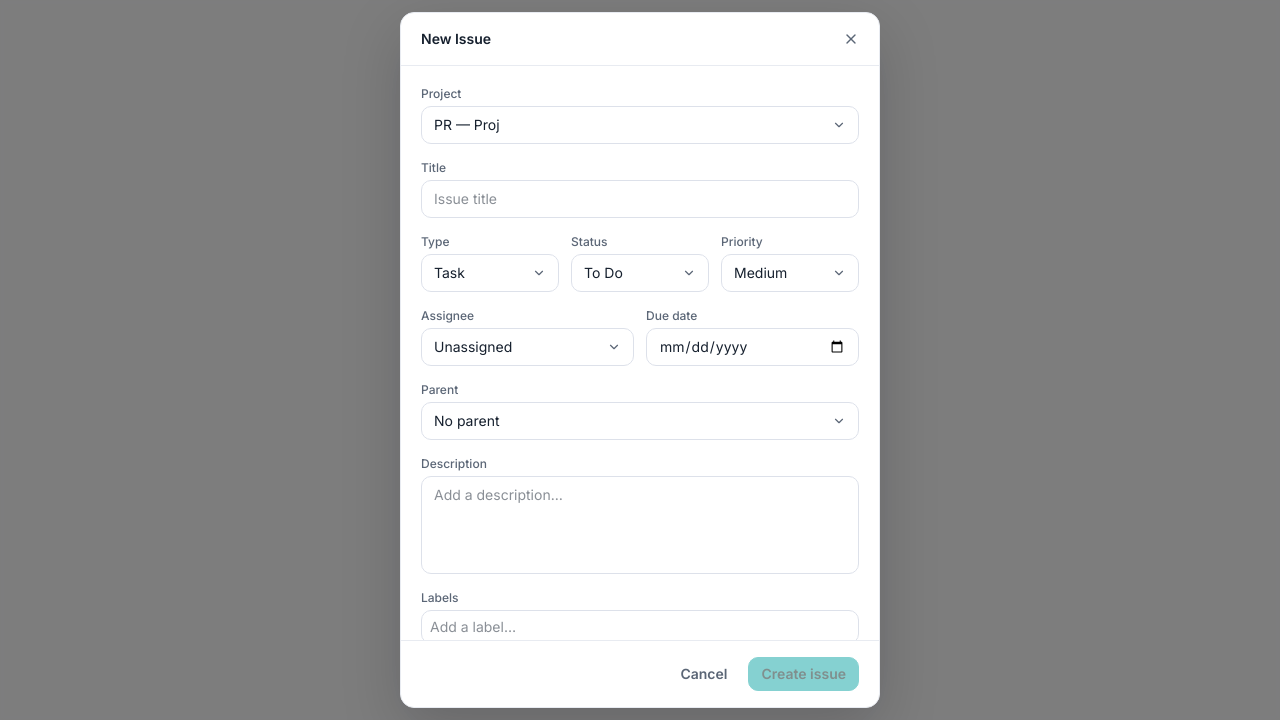
it: CreateIssueModal shares the board cache entry without a shape clash › renders over a board-populated cache entry and offers its issues as parents
The width and height of the screenshot is (1280, 720).
Expected: the text "New Issue" is shown, [421, 29, 491, 49]
Click the button labelled "No parent" at x=467, y=420, box [421, 402, 859, 440]
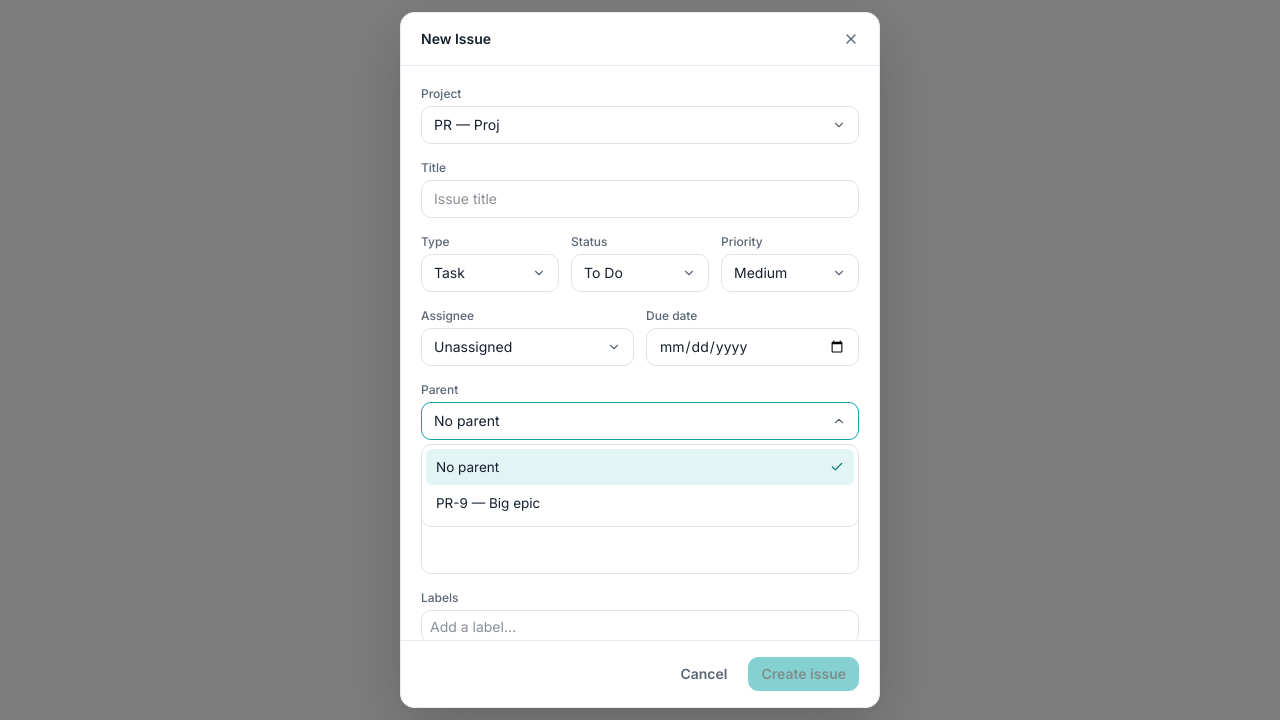
Expected: the option "PR-9 — Big epic" is shown, [436, 495, 540, 511]
